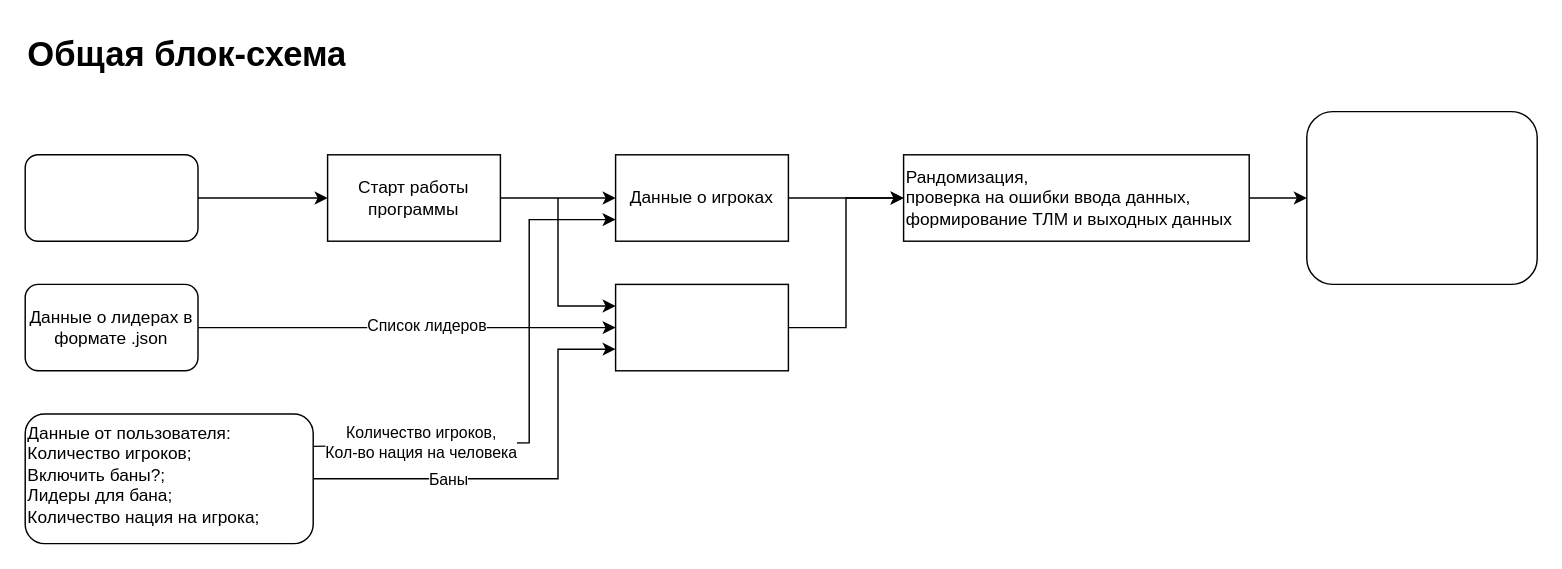
The diagram is 1562 pixels wide and 569 high, and some of its shapes have lost their labels. Here are the shapes that lost their labels. From the top down, the centre of each, then its label:
At point (111, 197): "Вызов программы".
At point (1421, 197): "Конец работы: Вывод данных пользователям, сообщение об ошибках".
At point (701, 327): "Создание списка доступных лидеров".
